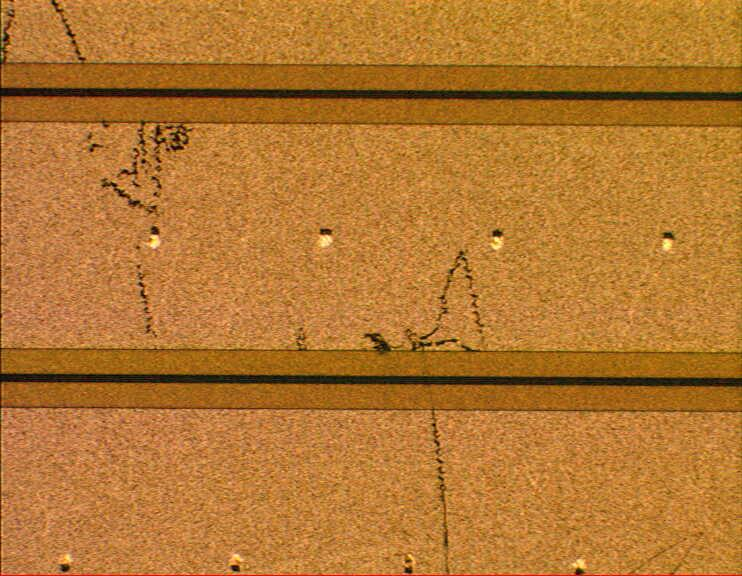SCRATCH: (1, 1, 710, 576)
